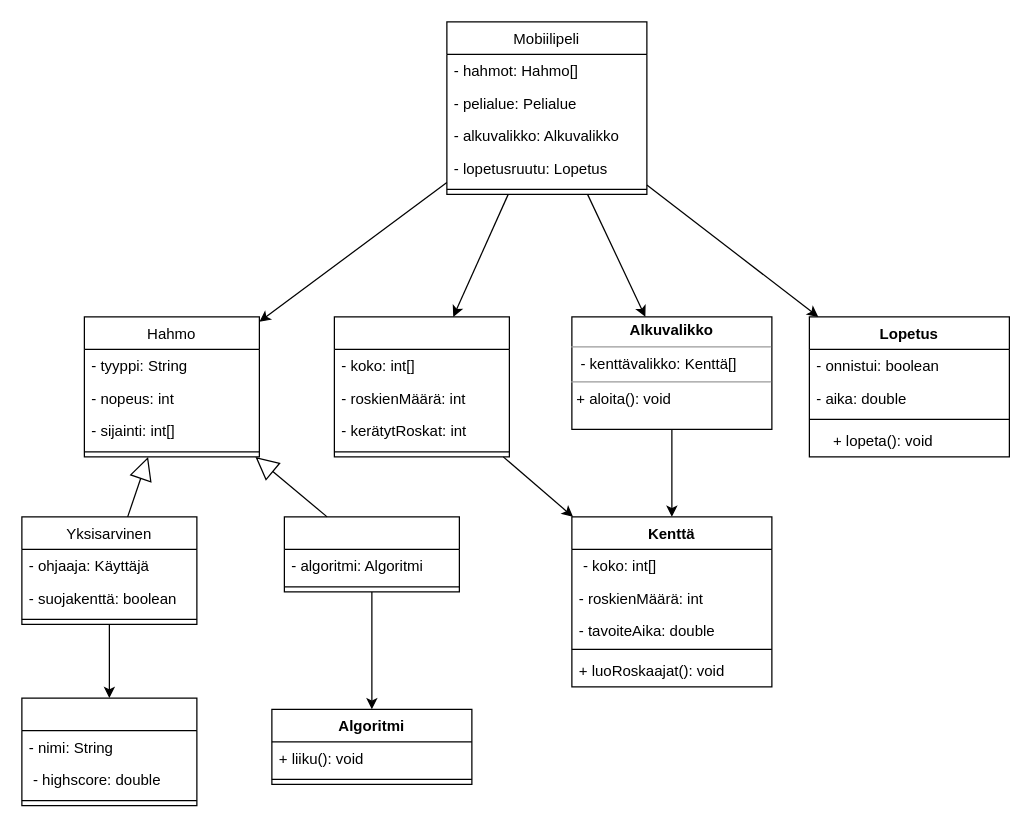
Some shapes in this 1031 by 828 pixel diagram are drawn without their labels. The box of each missing label's shape, as (x1, y1, x2, y2) in pixels:
Käyttäjä: (21, 697, 197, 806)
Pelialue: (333, 316, 509, 457)
Roskaaja: (283, 516, 459, 592)
